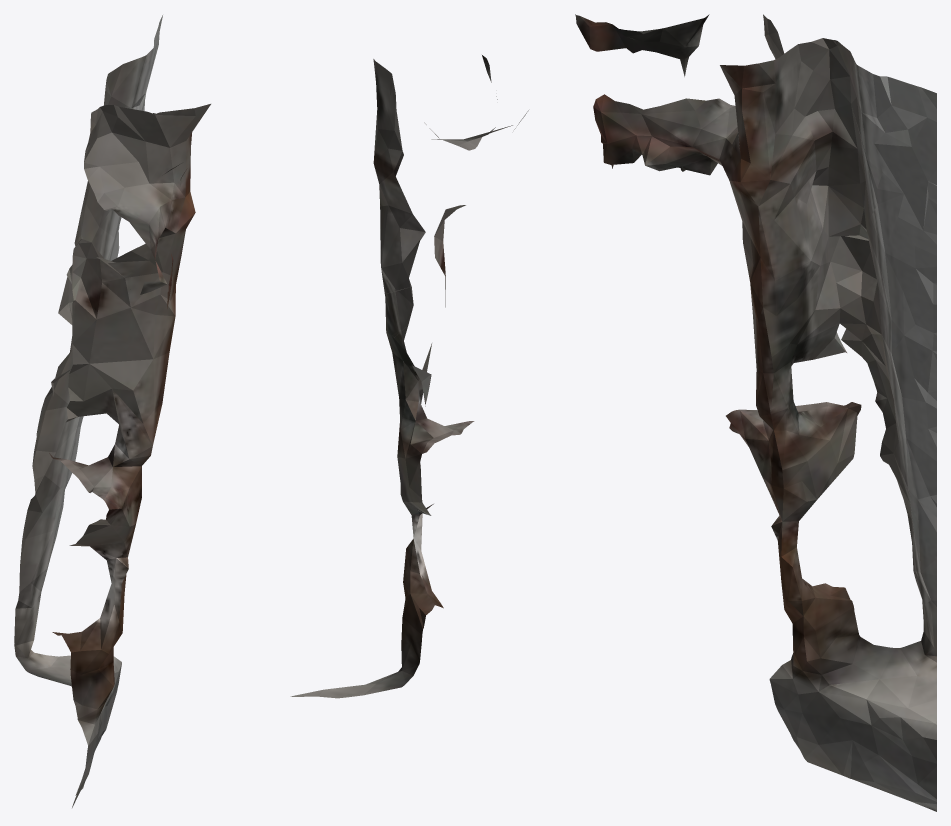
3 renders of one model, left to right at view 1: azimuth 30°, elevation 25°; view 2: azimuth 150°, elevation 25°; view 3: azimuth 270°, elevation 25°, orthographic. The views are drawn at different scales.
Size of the model in its own units: 0.1855 by 0.8374 by 0.3579.
1 material, 1 textured.
